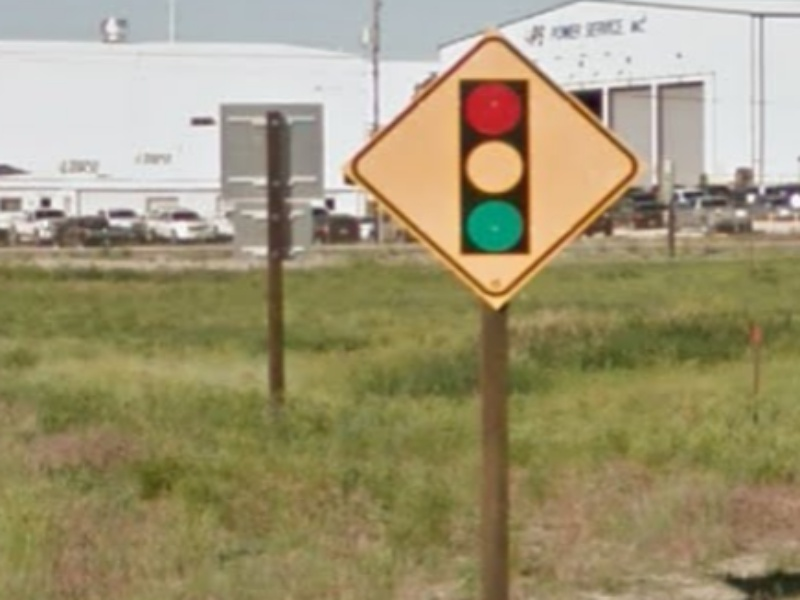traffic signal sign: (339, 27, 643, 314)
